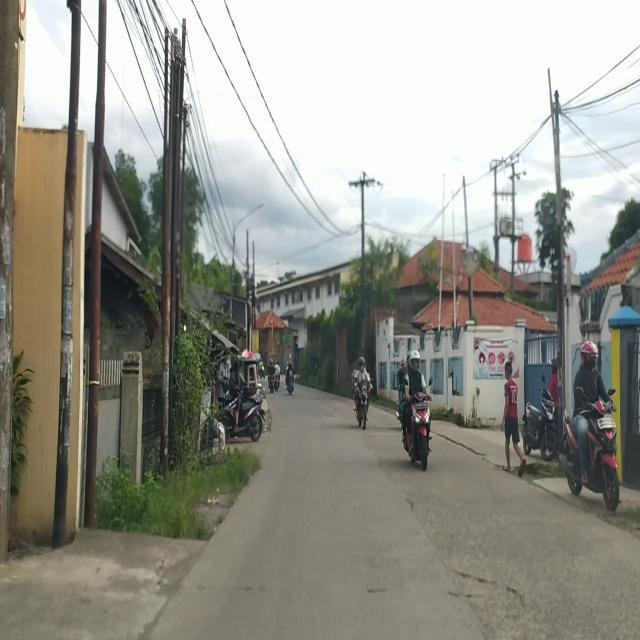Sewer Cover: (453, 569, 522, 597)
